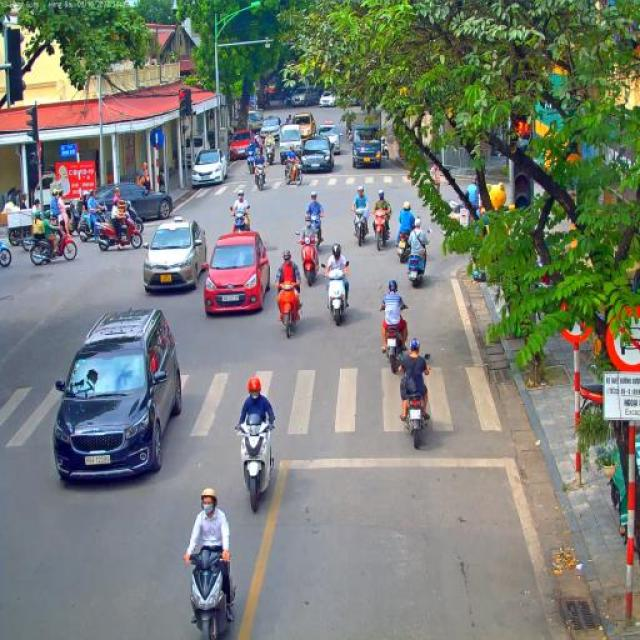car: (50, 308, 184, 483), (202, 231, 272, 317), (142, 216, 208, 296), (78, 182, 172, 222), (191, 148, 228, 187), (300, 136, 335, 174), (227, 129, 255, 161), (317, 123, 341, 155), (294, 112, 318, 143), (258, 116, 282, 143), (290, 86, 319, 108), (318, 90, 337, 108)
motorcycle: (186, 547, 236, 640), (234, 412, 276, 512), (398, 352, 432, 448), (378, 307, 408, 373), (96, 210, 144, 251), (320, 262, 350, 327), (30, 228, 78, 266), (276, 280, 303, 339), (407, 228, 432, 288), (295, 232, 320, 287), (394, 216, 416, 264), (76, 208, 104, 243), (117, 198, 144, 234), (372, 209, 392, 251), (350, 208, 369, 248), (305, 212, 324, 252), (7, 228, 33, 252), (63, 204, 81, 238), (229, 209, 252, 233), (285, 158, 303, 186), (252, 162, 266, 192), (0, 236, 12, 267), (265, 143, 276, 165), (246, 150, 256, 174), (380, 144, 390, 160), (348, 128, 352, 148)
truck: (352, 125, 382, 169), (278, 124, 303, 166), (247, 110, 263, 136)
